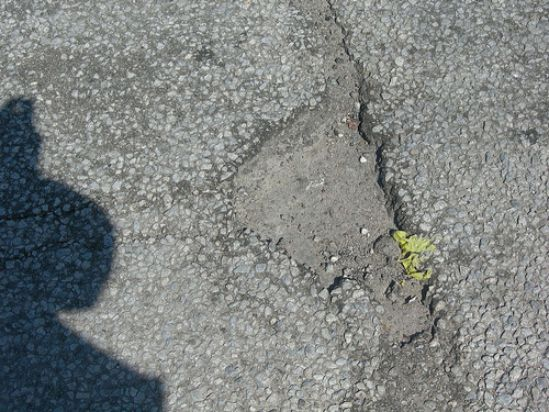pothole: (212, 81, 457, 355)
